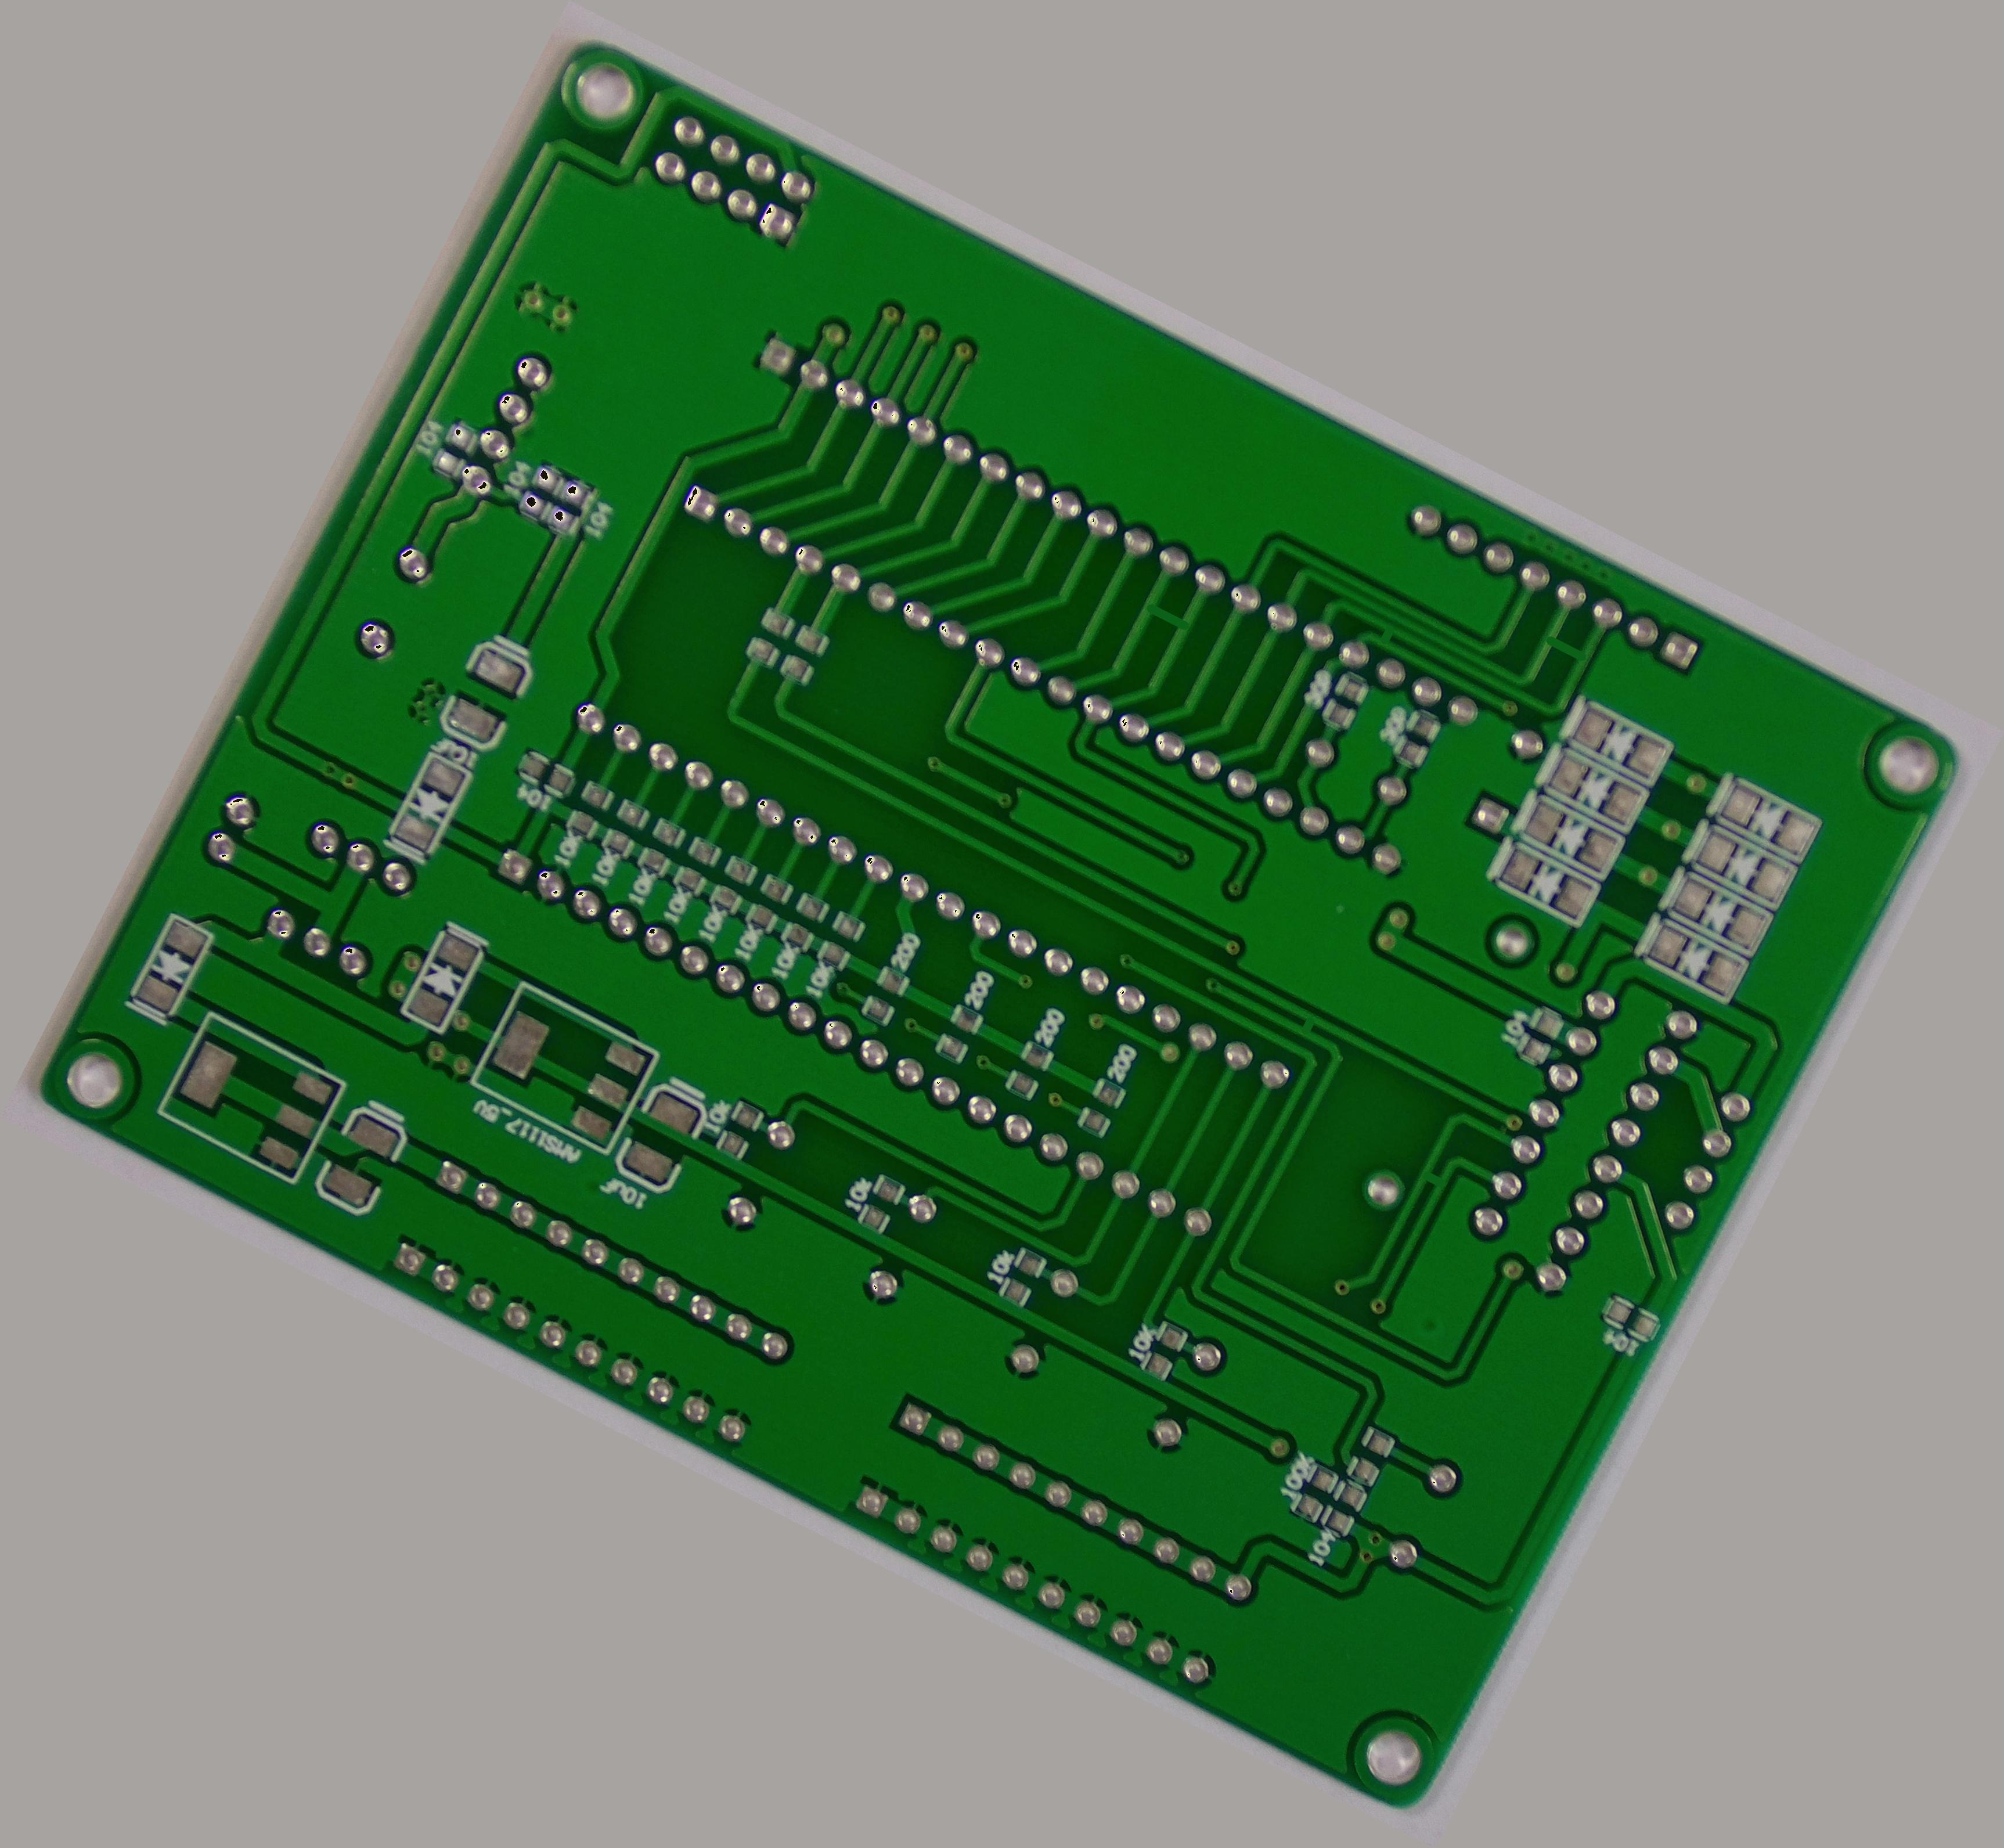short: (1124, 579, 1208, 647), (1527, 616, 1603, 681), (1283, 1000, 1332, 1047), (1363, 613, 1409, 658), (1409, 1157, 1454, 1201)
